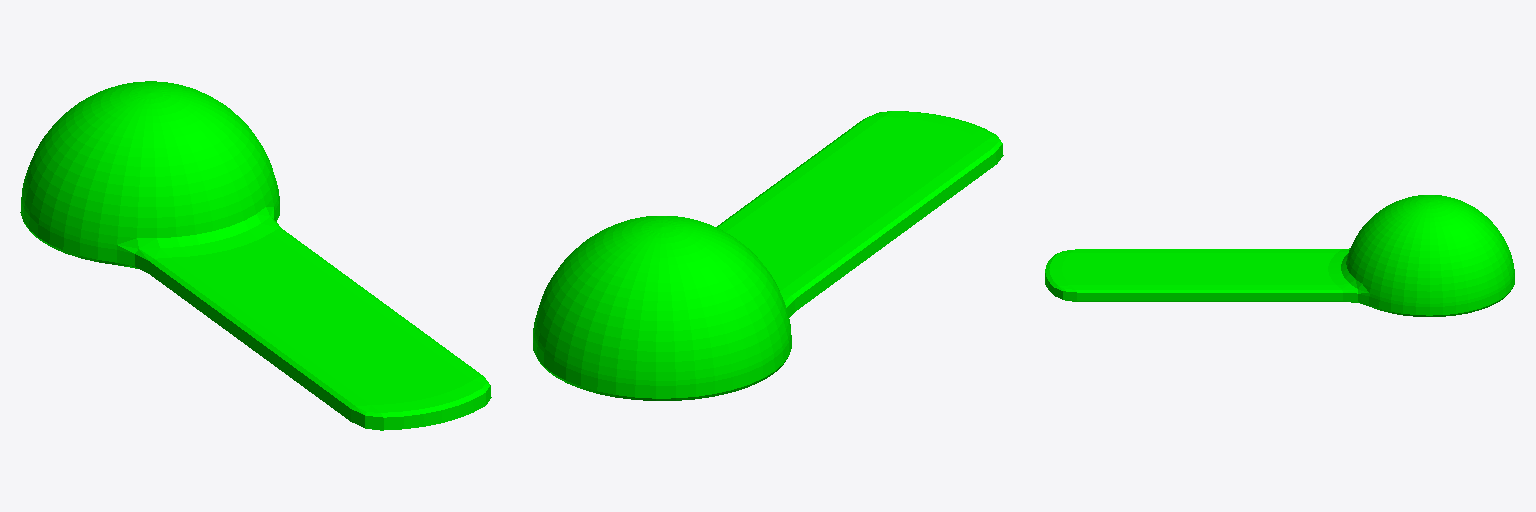
URDF robot description (green_spoon.urdf):
<?xml version="0.0" ?>
<robot name="green_spoon.urdf">
  <link name="baseLink">
    <contact>
      <friction_anchor/>
      <lateral_friction value="1.0"/>
    </contact>
    <inertial>
      <origin rpy="0 0 0" xyz="0 0 0"/>
       <mass value="0.04819415"/>
       <inertia ixx="1" ixy="0" ixz="0" iyy="1" iyz="0" izz="1"/>
    </inertial>
    <visual>
      <origin rpy="0 0 0" xyz="0 0 0"/>
      <geometry>
        <mesh filename="green_spoon.obj" scale="1 1 1"/>
      </geometry>
       <material name="green">
        <color rgba="0 1 0 1"/>
      </material>
    </visual>
    <collision>
      <origin rpy="0 0 0" xyz="0 0 0"/>
      <geometry>
        <mesh filename="green_spoon_vhacd.obj" scale="1 1 1"/>
      </geometry>
    </collision>
  </link>
</robot>

--- Facts derived from the render (not from the file) ---
The picture shows the robot from 3 angles, left to right: view 1: azimuth 30°, elevation 25°; view 2: azimuth 150°, elevation 25°; view 3: azimuth 270°, elevation 25°; orthographic projection.
Robot: green_spoon.urdf — 1 links, 0 joints (none); root link baseLink; default pose: every joint at zero.
Visible links, largest first — view 1: baseLink; view 2: baseLink; view 3: baseLink.
Boxes of the visible links, left/top/right/bottom form: baseLink: left=20, top=81, right=491, bottom=430; baseLink: left=533, top=111, right=1003, bottom=400; baseLink: left=1045, top=195, right=1514, bottom=316.
Bounding box of the posed robot: 0.0669 × 0.1836 × 0.0341 m (x, y, z).
Meshes: 1 distinct files referenced, 1 mesh visuals loaded (1 OBJ).